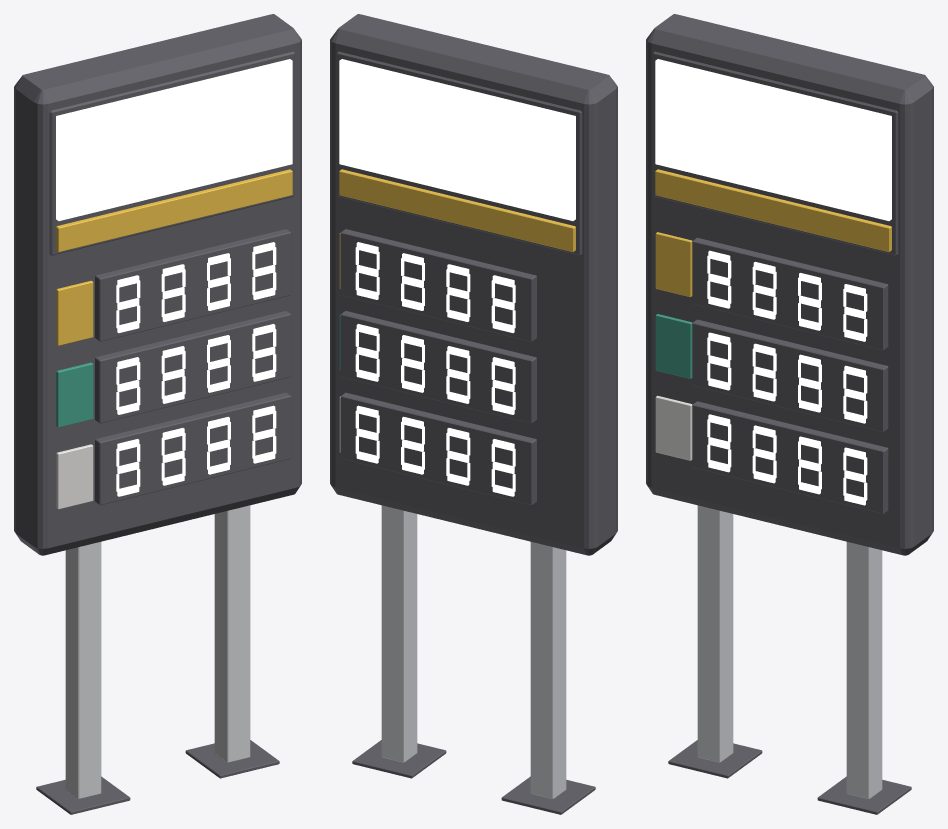
The model's file is petrol-station-and-forecourt-shop-price-totem-sign-amb-4562735c__33957.glb.
3 views of the same model, side by side, from view 1: azimuth 30°, elevation 25°; view 2: azimuth 150°, elevation 25°; view 3: azimuth 330°, elevation 25° (orthographic).
Visible parts, largest first — view 1: price-totem-sign-amber; view 2: price-totem-sign-amber; view 3: price-totem-sign-amber.
Part boxes in pixels (bbox=[...]): price-totem-sign-amber: bbox=[14, 14, 301, 814]; price-totem-sign-amber: bbox=[330, 14, 617, 814]; price-totem-sign-amber: bbox=[646, 14, 933, 814].
Bounding box in the file's own units: 1.5 × 3.9 × 0.414.
